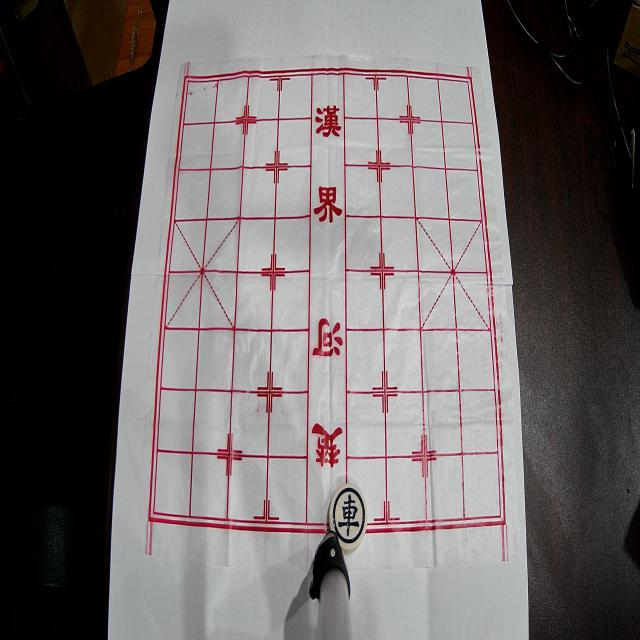black-chariot: (329, 484, 368, 550)
